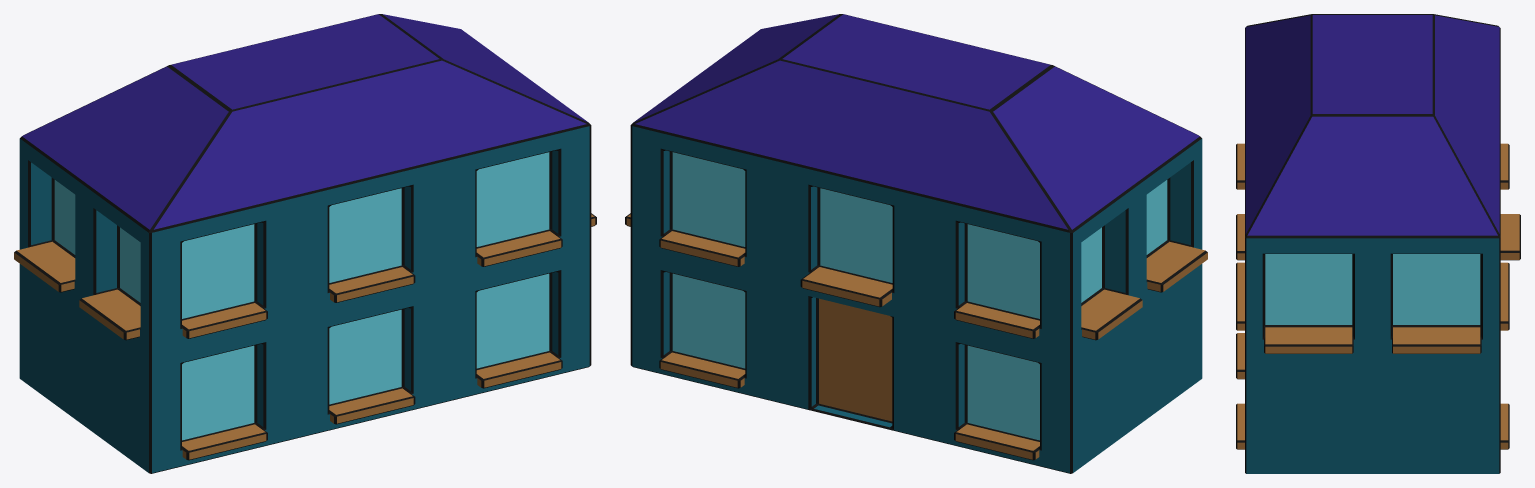
Rendered from BigHouse2.fbx.
3 views of the same model, side by side, from view 1: azimuth 30°, elevation 25°; view 2: azimuth 150°, elevation 25°; view 3: azimuth 270°, elevation 25° (orthographic). The views are drawn at different scales.
Parts seen in each view (by area): view 1: Cube.017; view 2: Cube.017; view 3: Cube.017.
Part boxes in pixels (<box>): Cube.017: <box>14,14,596,473</box>; Cube.017: <box>625,14,1207,473</box>; Cube.017: <box>1236,14,1520,473</box>.
Size of the model in its own units: 5.83 by 3.66 by 3.1.
